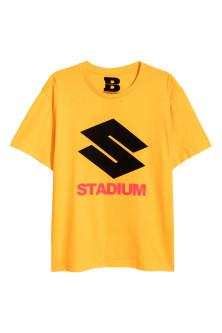teeshirt: (13, 58, 216, 282)
